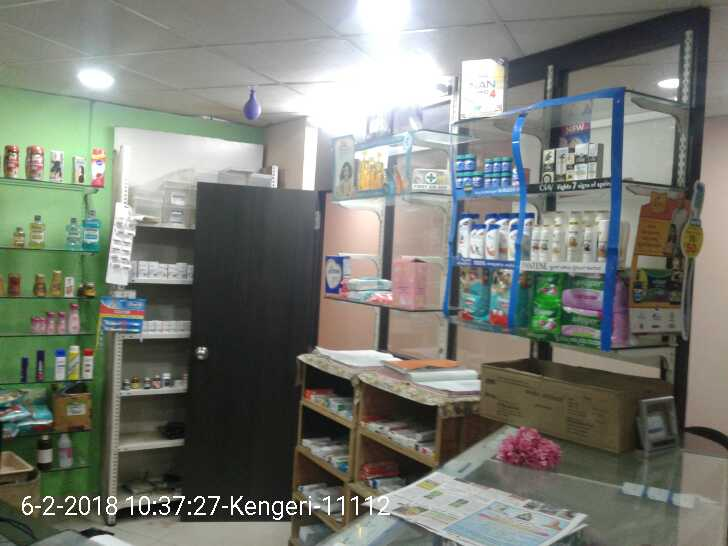beauty: (464, 222, 503, 267), (564, 220, 599, 263), (553, 148, 599, 180), (534, 137, 556, 185), (453, 211, 469, 263), (549, 224, 568, 263), (528, 221, 540, 261), (535, 230, 549, 264)
pharmacy: (559, 269, 608, 308), (458, 260, 485, 327), (553, 304, 596, 344), (487, 264, 513, 330), (528, 270, 559, 306), (527, 301, 554, 334), (449, 149, 476, 173), (483, 169, 511, 190), (483, 152, 510, 172), (454, 172, 483, 188)
